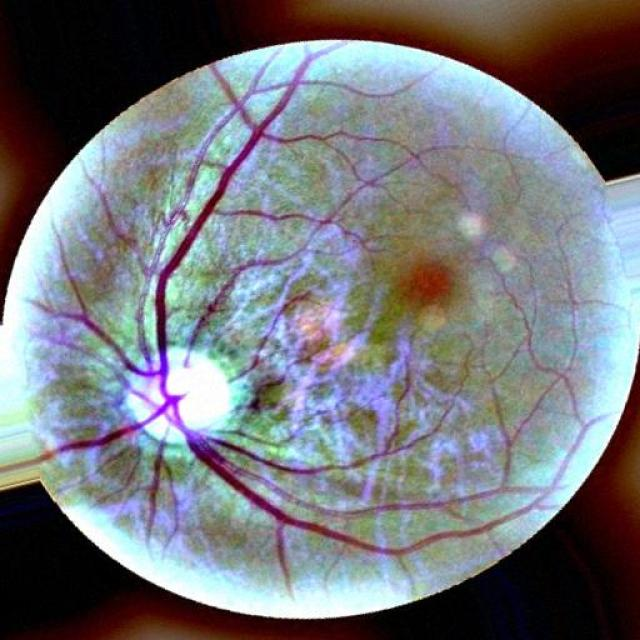Macula: (406, 260, 459, 314)
Nerves: (192, 440, 473, 578), (154, 72, 300, 333), (24, 432, 118, 469)
Optic Disk: (119, 333, 245, 454)
